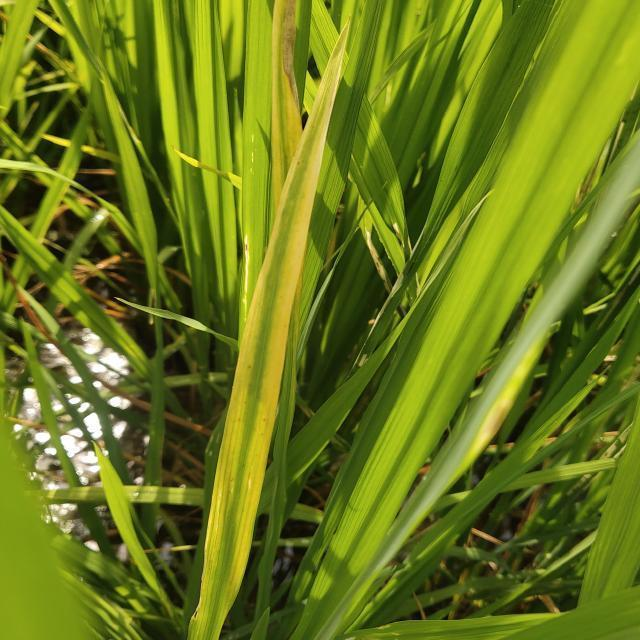Rice Tungro: (139, 14, 380, 624)
